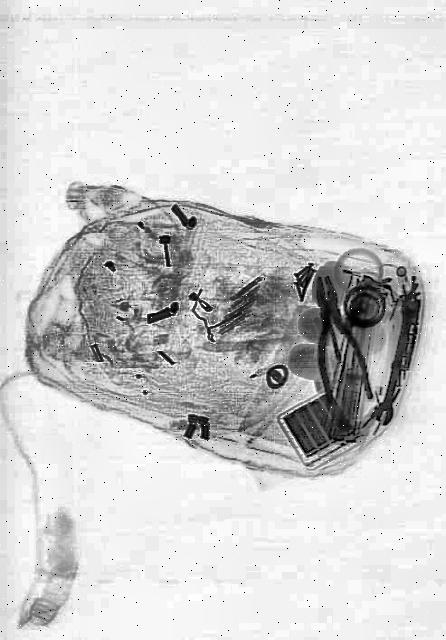Pliers: (300, 268, 372, 414)
Wrench: (370, 289, 422, 429)
